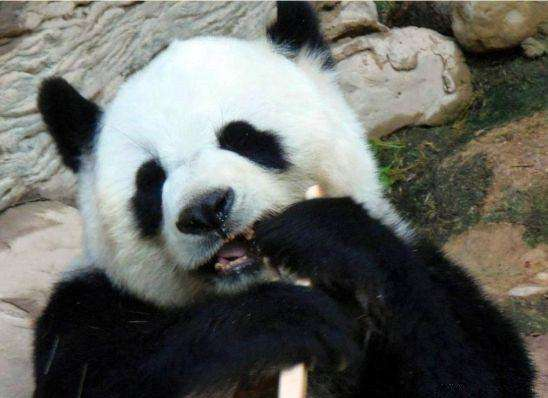panda: (19, 2, 543, 398)
